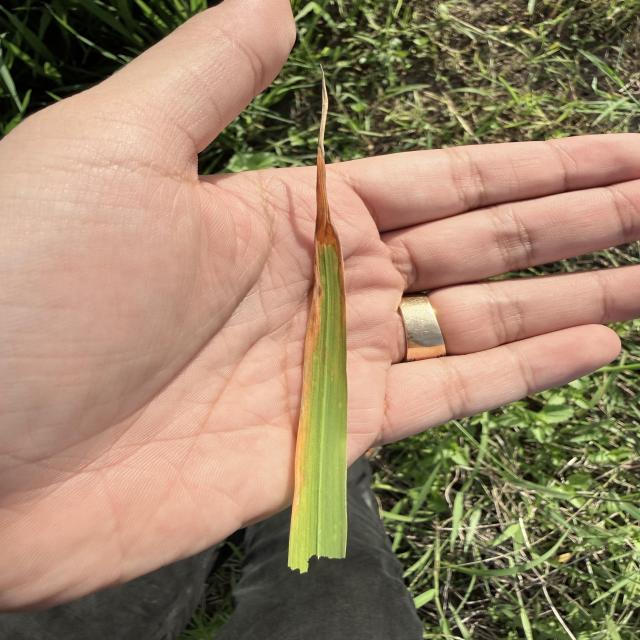Chay bia la: (294, 63, 347, 516)
